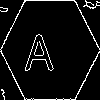A: (25, 25, 54, 70)
